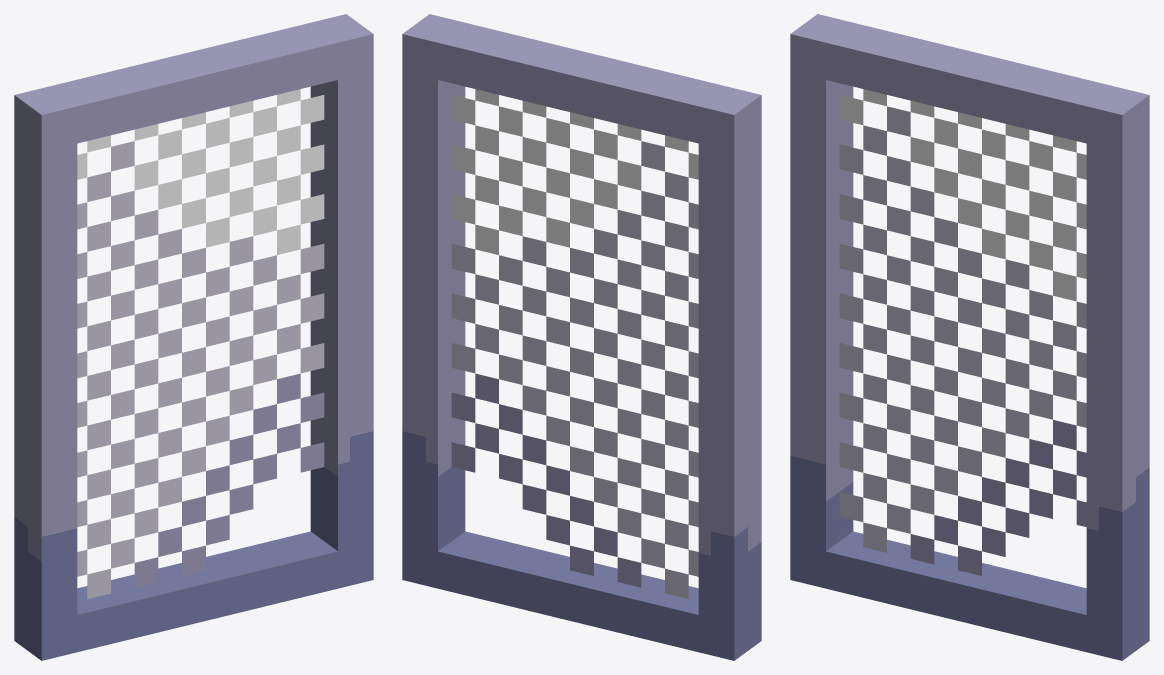
Rendered from Door.fbx.
3 renders of one model, left to right at view 1: azimuth 30°, elevation 25°; view 2: azimuth 150°, elevation 25°; view 3: azimuth 330°, elevation 25°, orthographic.
Parts seen in each view (by area): view 1: cuboid; view 2: cuboid; view 3: cuboid.
Boxes of the visible parts, bbox=[...] form: cuboid: bbox=[14, 14, 373, 660]; cuboid: bbox=[402, 14, 761, 660]; cuboid: bbox=[790, 14, 1149, 660].
Bounding box in the file's own units: 175 × 275 × 25.
